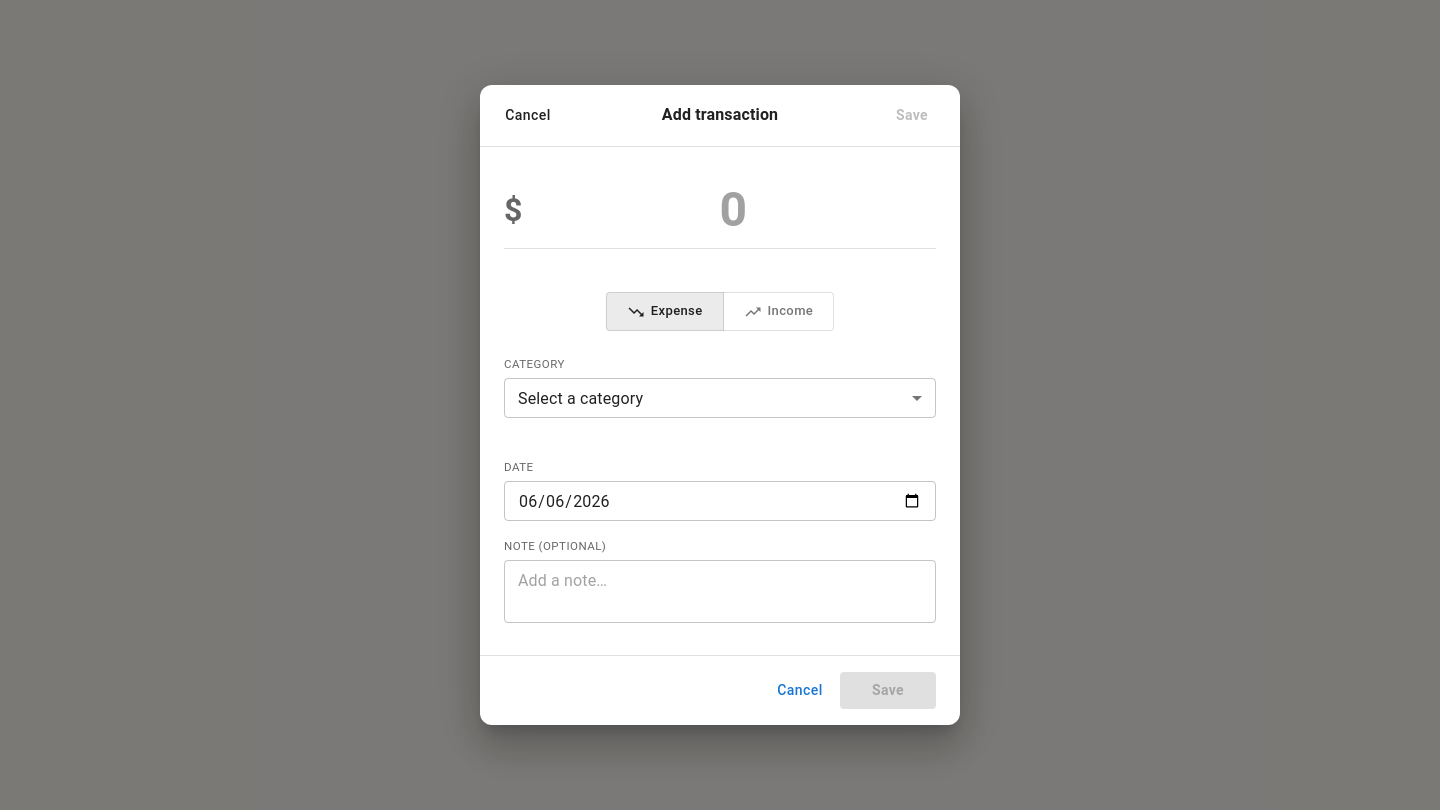
Scenario: AddTransactionSheet › rejects non-numeric input in amount
The image size is (1440, 810).
In the field named "Amount": (733, 210) [531,170,936,248], type "abc1.2.3"
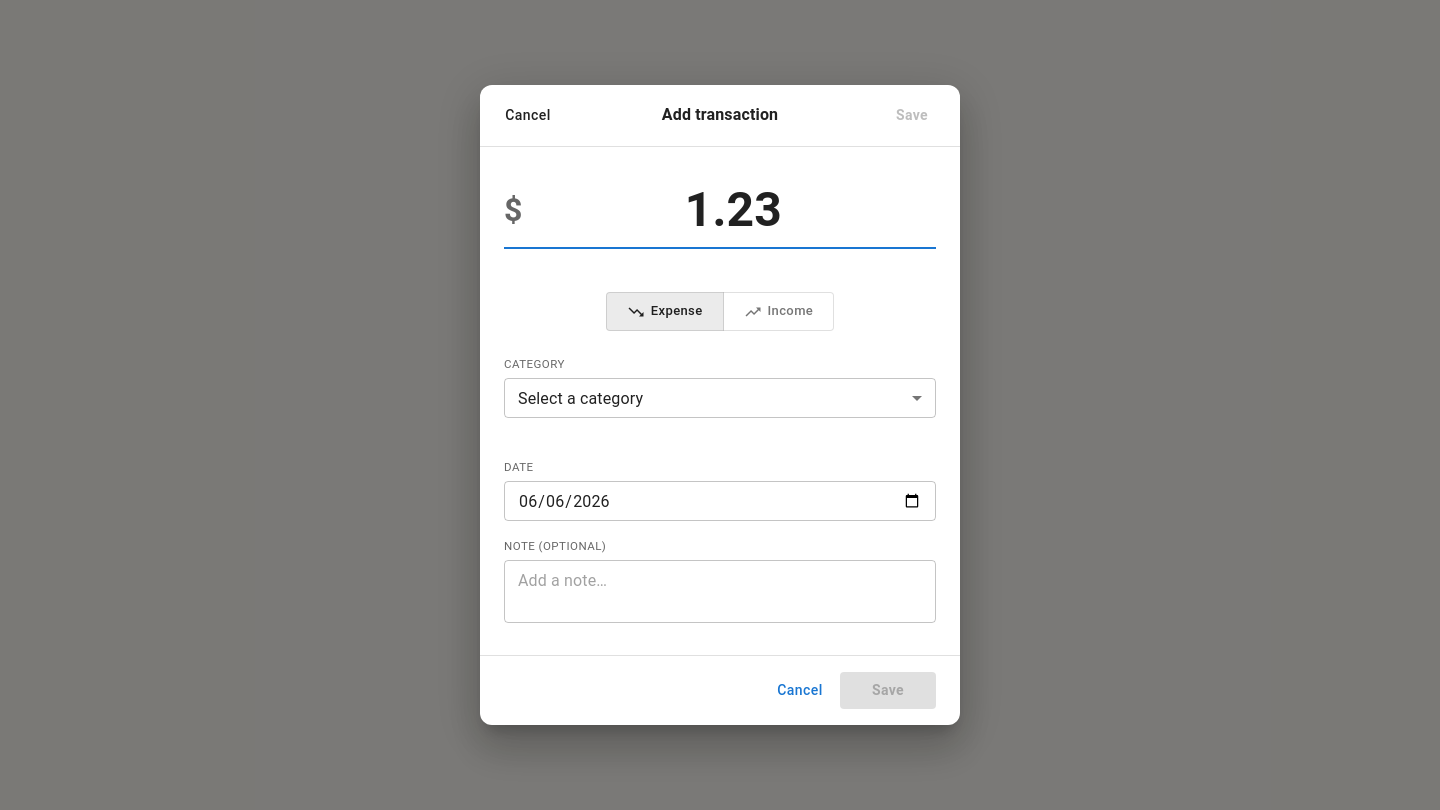
Now the field named "Amount" holds "1.23", box [531,170,936,248]
